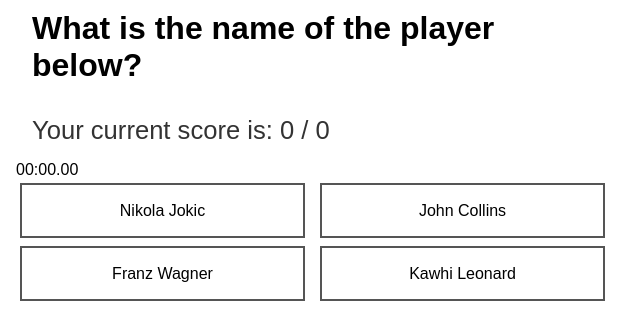
Test: <PlayerNameGame /> › should give visual feedback to user when answer is incorrect
The image size is (622, 318).
Click the button "Franz Wagner" at (162, 274), box [20, 246, 305, 301]
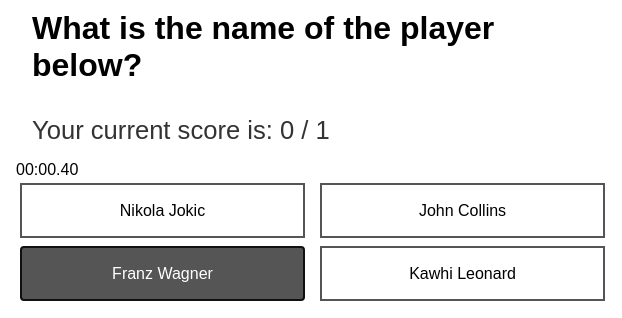
Expected: the text "0 / 1" is shown, [280, 116, 330, 144]
